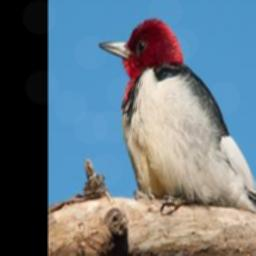Woodpecker: (98, 17, 256, 221)
